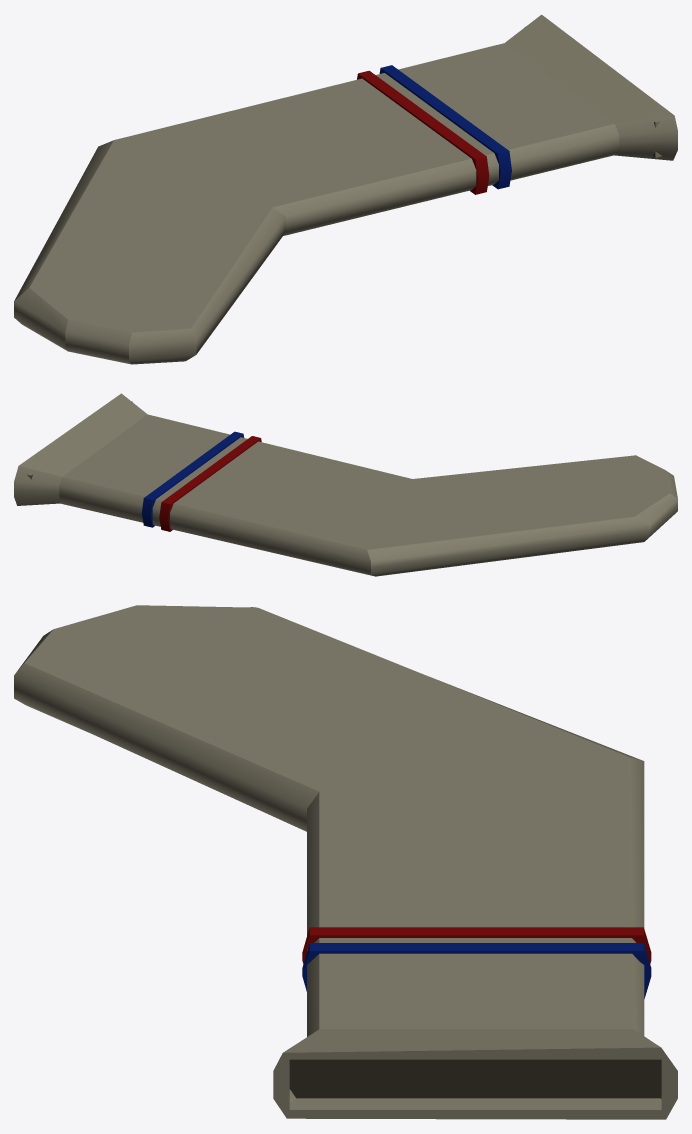
The model's file is SM_Calcetin.fbx.
3 renders of one model, top to bottom at view 1: azimuth 30°, elevation 25°; view 2: azimuth 150°, elevation 25°; view 3: azimuth 270°, elevation 25°, orthographic. The views are drawn at different scales.
Parts seen in each view (by area): view 1: pCube1, pasted__pCube2, pCube2; view 2: pCube1, pCube2, pasted__pCube2; view 3: pCube1, pCube2, pasted__pCube2.
Part boxes in pixels (x1,y1,x2,y2): pCube1: (14, 14, 677, 364); pasted__pCube2: (357, 70, 489, 194); pCube2: (379, 65, 511, 189); pCube1: (14, 393, 677, 576); pCube2: (141, 431, 244, 527); pasted__pCube2: (159, 436, 261, 531); pCube1: (14, 605, 677, 1119); pCube2: (302, 943, 651, 998); pasted__pCube2: (302, 927, 651, 963).
Size of the model in its own units: 10.66 by 0.7696 by 6.42.
